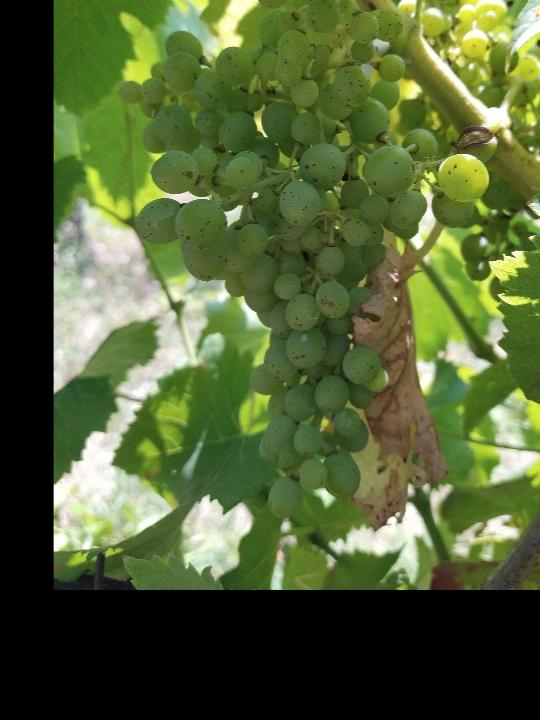grape: (119, 0, 498, 519)
